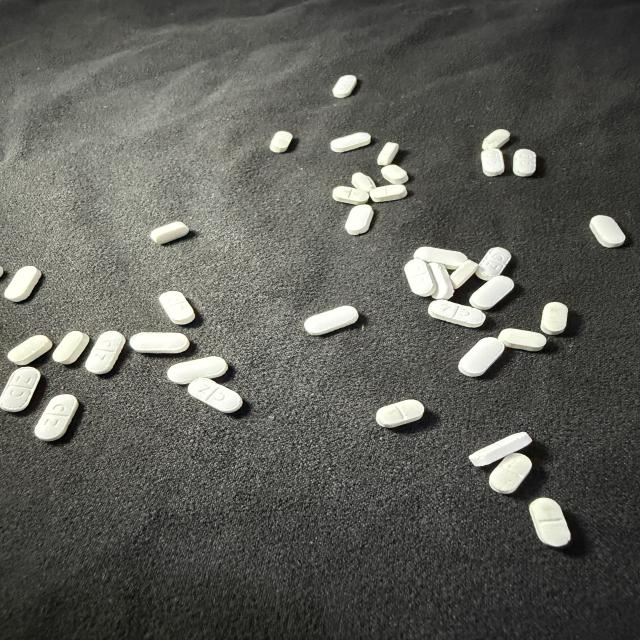pill: (469, 432, 531, 466), (35, 394, 78, 441), (530, 498, 570, 547), (188, 378, 242, 413), (0, 367, 40, 412), (459, 337, 504, 376), (85, 331, 125, 374), (489, 453, 531, 493), (167, 357, 227, 384), (304, 306, 358, 335), (428, 300, 485, 327), (470, 276, 514, 310), (8, 335, 52, 365), (5, 266, 41, 302), (376, 400, 424, 427), (53, 331, 89, 364), (130, 333, 189, 353), (414, 247, 467, 269), (476, 247, 511, 280), (159, 292, 195, 324), (405, 259, 436, 296), (590, 215, 625, 247), (499, 329, 546, 351), (541, 302, 568, 334), (429, 263, 453, 299), (150, 222, 189, 244), (330, 132, 371, 152), (345, 205, 373, 234), (451, 260, 478, 288), (480, 148, 504, 177), (333, 186, 369, 204), (513, 149, 536, 176), (370, 185, 407, 201), (482, 129, 510, 149), (333, 75, 357, 98), (381, 164, 408, 184), (377, 142, 398, 166), (270, 131, 292, 153), (352, 173, 375, 193), (0, 267, 3, 276)
